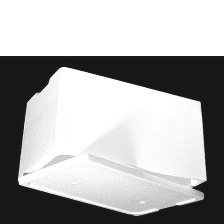foam_box: (14, 62, 211, 220)
